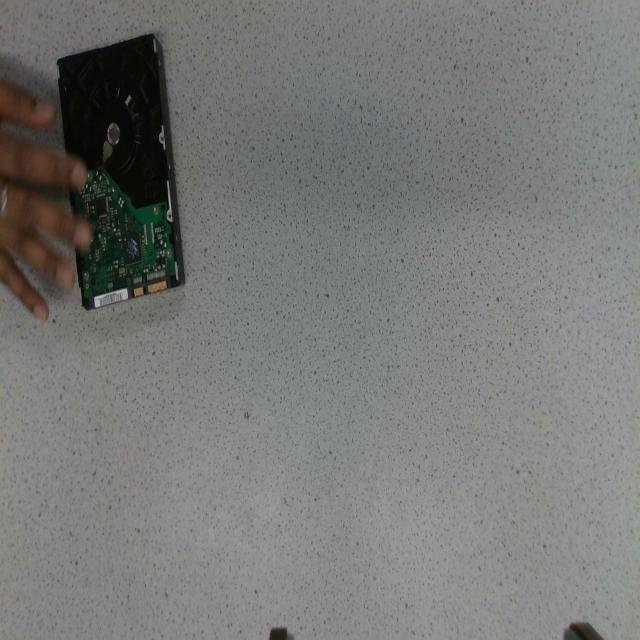case: (58, 35, 184, 308)
pcb: (72, 167, 175, 298)
screw: (83, 271, 89, 282), (166, 248, 172, 259), (154, 204, 158, 215)
